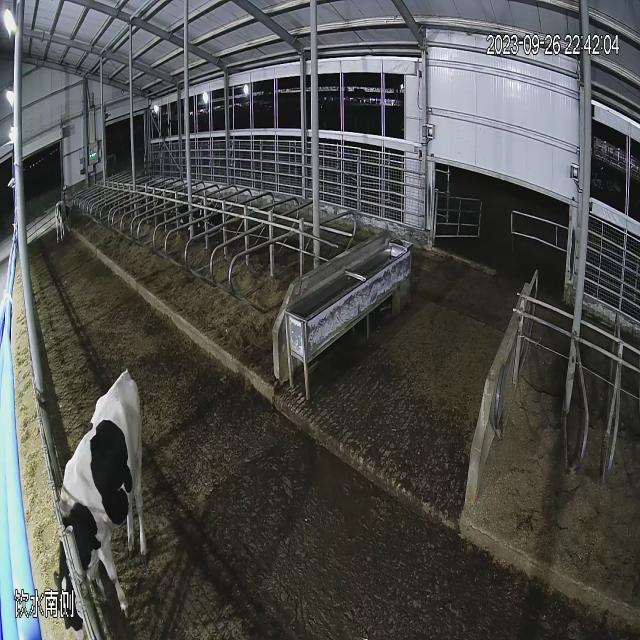feeding: (50, 322, 166, 640)
lying down: (178, 179, 228, 241)
standing: (50, 190, 86, 258)
